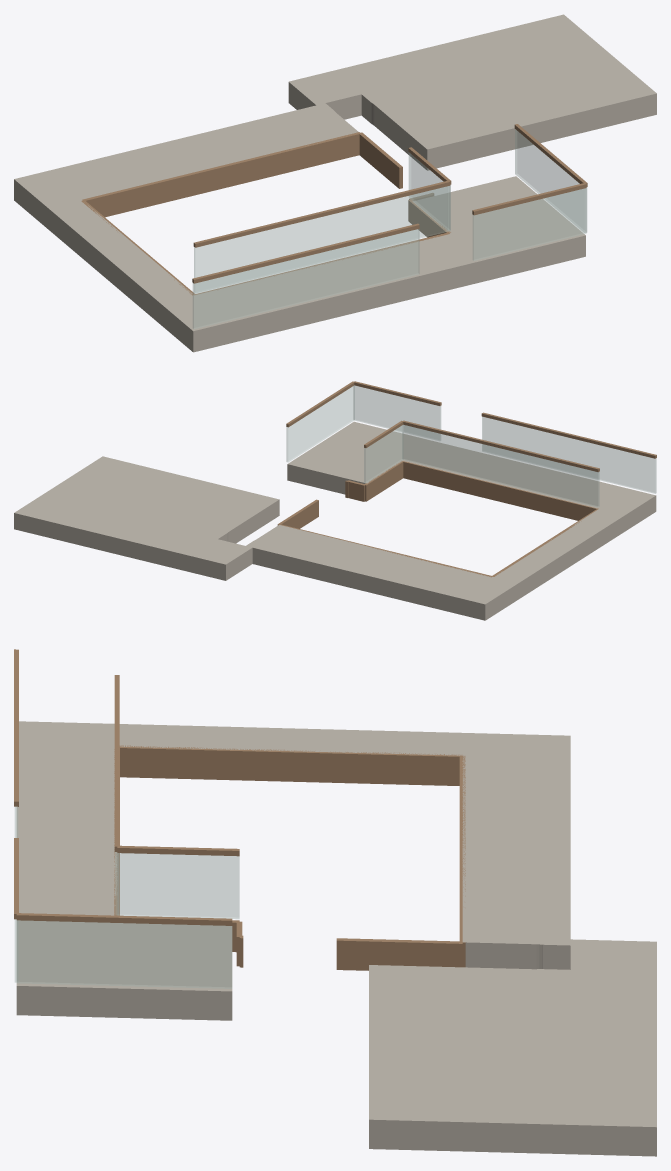
Rendered from PERIMETER_792_r001.glb.
3 views of the same model, one above another, from view 1: azimuth 30°, elevation 25°; view 2: azimuth 150°, elevation 25°; view 3: azimuth 270°, elevation 25° (orthographic). The views are drawn at different scales.
Parts seen in each view (by area): view 1: G2P_792_TERRACE_00, G2P_792_RearGuardGlass_0, G2P_792_OuterGuard_2, G2P_792_PitEdge_0_0, G2P_792_OuterGuard_1, G2P_792_OuterGuard_0, G2P_792_RearGuardGlass_1, G2P_792_RearGuardRail_0, G2P_792_OuterRail_2, G2P_792_PitEdge_5_0, G2P_792_PitEdge_3_0, G2P_792_OuterRail_1 (+1 smaller); view 2: G2P_792_TERRACE_00, G2P_792_RearGuardGlass_0, G2P_792_OuterGuard_2, G2P_792_PitEdge_2_0, G2P_792_OuterGuard_1, G2P_792_OuterGuard_0, G2P_792_RearGuardGlass_1, G2P_792_RearGuardRail_0, G2P_792_OuterRail_2, G2P_792_PitEdge_3_0, G2P_792_PitEdge_5_0, G2P_792_OuterRail_1 (+2 smaller); view 3: G2P_792_TERRACE_00, G2P_792_OuterGuard_0, G2P_792_PitEdge_1_0, G2P_792_RearGuardGlass_1, G2P_792_PitEdge_5_0, G2P_792_OuterRail_0, G2P_792_PitEdge_0_0, G2P_792_RearGuardRail_0, G2P_792_RearGuardRail_1, G2P_792_OuterRail_2.
Boxes of the visible parts, x1=… form: G2P_792_TERRACE_00: x1=14, y1=14, x2=656, y2=352; G2P_792_RearGuardGlass_0: x1=194, y1=186, x2=449, y2=292; G2P_792_OuterGuard_2: x1=193, y1=229, x2=419, y2=328; G2P_792_PitEdge_0_0: x1=82, y1=132, x2=360, y2=217; G2P_792_OuterGuard_1: x1=473, y1=188, x2=586, y2=260; G2P_792_OuterGuard_0: x1=515, y1=129, x2=586, y2=232; G2P_792_RearGuardGlass_1: x1=409, y1=153, x2=450, y2=230; G2P_792_RearGuardRail_0: x1=193, y1=180, x2=450, y2=247; G2P_792_OuterRail_2: x1=192, y1=223, x2=419, y2=283; G2P_792_PitEdge_5_0: x1=359, y1=132, x2=402, y2=188; G2P_792_PitEdge_3_0: x1=408, y1=199, x2=450, y2=237; G2P_792_OuterRail_1: x1=472, y1=183, x2=586, y2=215; G2P_792_TERRACE_00: x1=14, y1=421, x2=656, y2=620; G2P_792_RearGuardGlass_0: x1=402, y1=425, x2=599, y2=506; G2P_792_OuterGuard_2: x1=482, y1=417, x2=656, y2=493; G2P_792_PitEdge_2_0: x1=402, y1=461, x2=598, y2=520; G2P_792_OuterGuard_1: x1=353, y1=385, x2=440, y2=440; G2P_792_OuterGuard_0: x1=286, y1=385, x2=354, y2=462; G2P_792_RearGuardGlass_1: x1=364, y1=425, x2=403, y2=482; G2P_792_RearGuardRail_0: x1=402, y1=420, x2=599, y2=472; G2P_792_OuterRail_2: x1=481, y1=412, x2=656, y2=458; G2P_792_PitEdge_3_0: x1=365, y1=461, x2=403, y2=501; G2P_792_PitEdge_5_0: x1=277, y1=499, x2=318, y2=528; G2P_792_OuterRail_1: x1=354, y1=381, x2=441, y2=405; G2P_792_TERRACE_00: x1=16, y1=721, x2=656, y2=1156; G2P_792_OuterGuard_0: x1=17, y1=920, x2=231, y2=988; G2P_792_PitEdge_1_0: x1=119, y1=745, x2=461, y2=785; G2P_792_RearGuardGlass_1: x1=117, y1=853, x2=239, y2=918; G2P_792_PitEdge_5_0: x1=336, y1=938, x2=462, y2=970; G2P_792_OuterRail_0: x1=16, y1=913, x2=232, y2=925; G2P_792_PitEdge_0_0: x1=459, y1=755, x2=465, y2=967; G2P_792_RearGuardRail_0: x1=114, y1=675, x2=119, y2=851; G2P_792_RearGuardRail_1: x1=117, y1=845, x2=239, y2=856; G2P_792_OuterRail_2: x1=14, y1=649, x2=18, y2=806.
Bounding box in the file's own units: 13.35 × 1.55 × 8.93.
